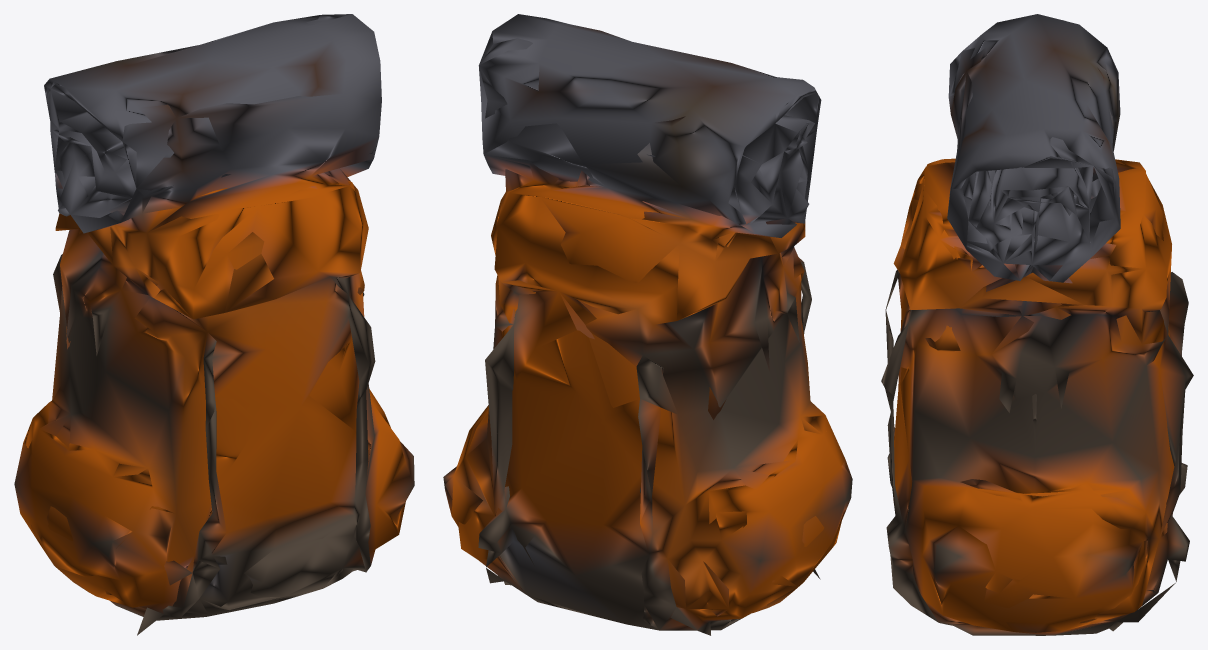
Rendered from gen3d-hiking-backpack-lod0.glb.
3 renders of one model, left to right at view 1: azimuth 30°, elevation 25°; view 2: azimuth 150°, elevation 25°; view 3: azimuth 270°, elevation 25°, orthographic. The views are drawn at different scales.
Visible parts, largest first — view 1: part_0; view 2: part_0; view 3: part_0.
Boxes of the visible parts, x1=… form: part_0: x1=14, y1=14, x2=414, y2=635; part_0: x1=443, y1=14, x2=852, y2=635; part_0: x1=881, y1=14, x2=1193, y2=635.
Size of the model in its own units: 0.6395 by 1 by 0.556.
